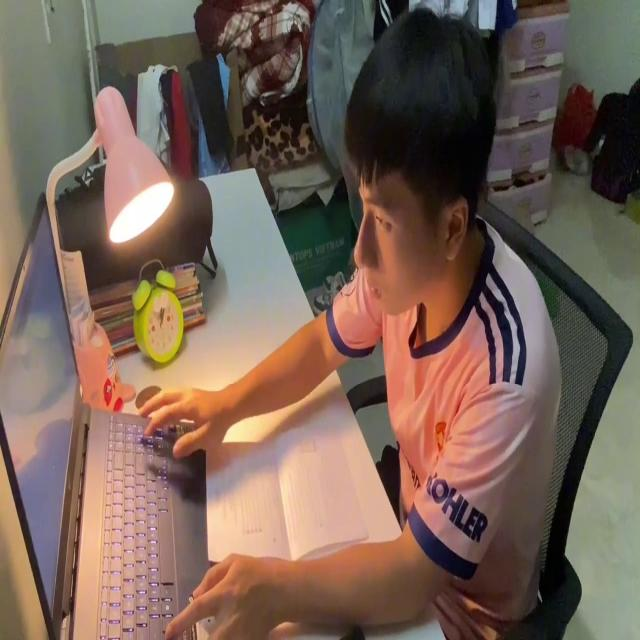book: (204, 422, 368, 573)
laptop: (2, 186, 237, 640)
student: (134, 2, 560, 640)
